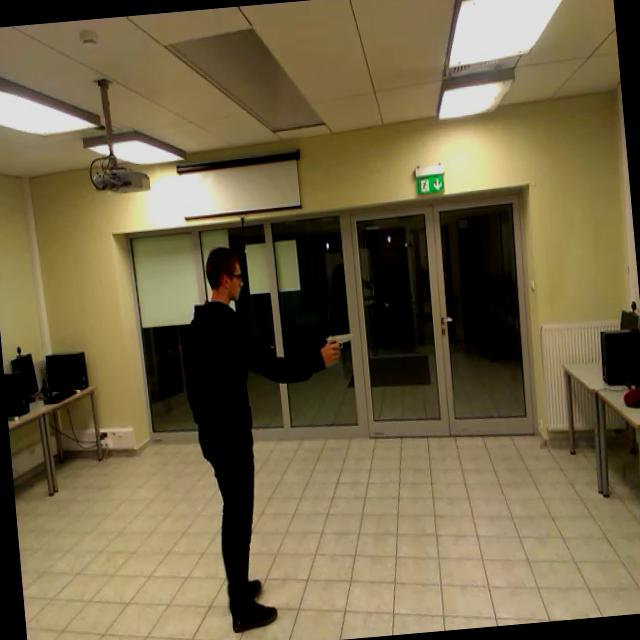handgun: (326, 324, 358, 368)
